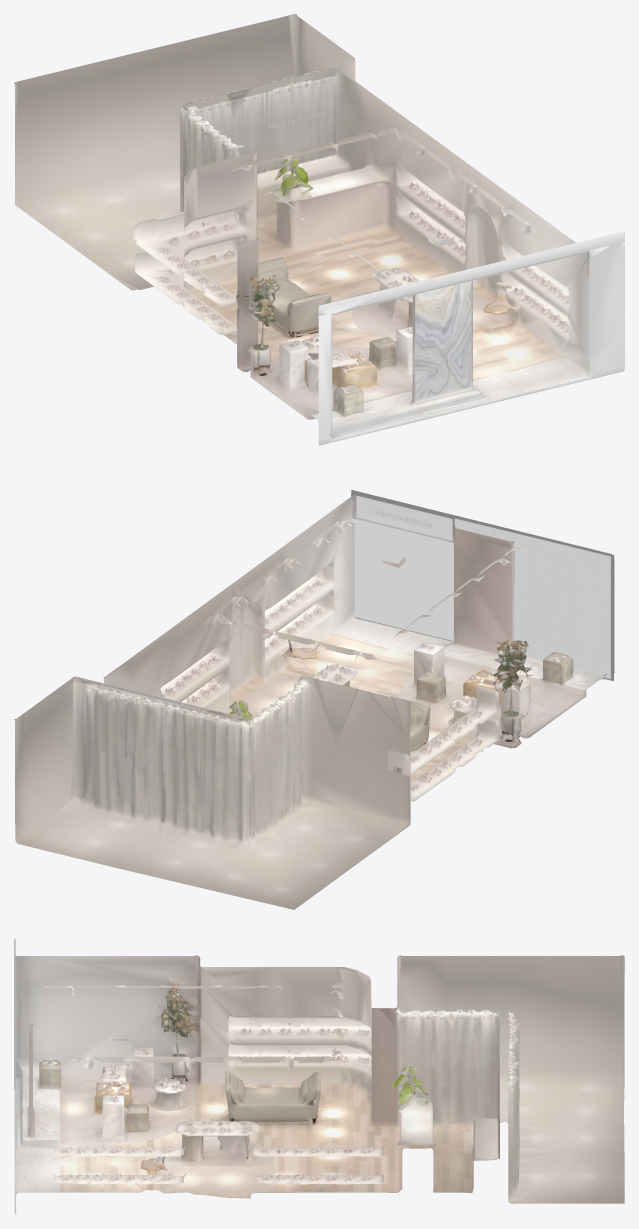
Rendered from dollhouse.gltf.
The picture shows the model from 3 angles, top to bottom: view 1: azimuth 30°, elevation 25°; view 2: azimuth 150°, elevation 25°; view 3: azimuth 270°, elevation 25°; orthographic projection. The views are drawn at different scales.
Visible parts, largest first — view 1: dollhouse; view 2: dollhouse; view 3: dollhouse.
Boxes of the visible parts, bbox=[...] form: dollhouse: bbox=[14, 14, 624, 445]; dollhouse: bbox=[14, 490, 624, 909]; dollhouse: bbox=[14, 938, 624, 1214].
Size of the model in its own units: 7.83 by 3.41 by 14.05.
Materials: 1 (1 with a texture image).
